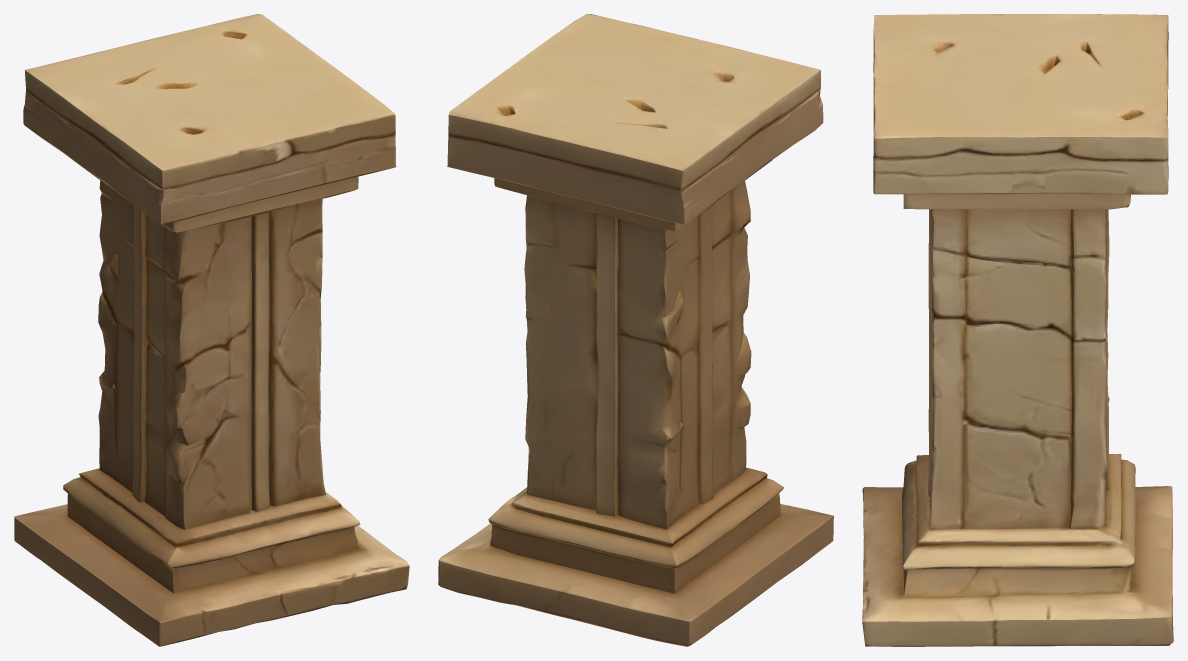
The model's file is m2StoneColumn.glb.
3 renders of one model, left to right at view 1: azimuth 30°, elevation 25°; view 2: azimuth 150°, elevation 25°; view 3: azimuth 270°, elevation 25°, orthographic. The views are drawn at different scales.
Visible parts, largest first — view 1: model; view 2: model; view 3: model.
Boxes of the visible parts, x1,y1,x2,y2 form: model: (14,14,409,646); model: (438,14,833,646); model: (862,14,1173,646).
Size of the model in its own units: 1.06 by 1.9 by 1.06.
Materials: 1 (1 with a texture image).
